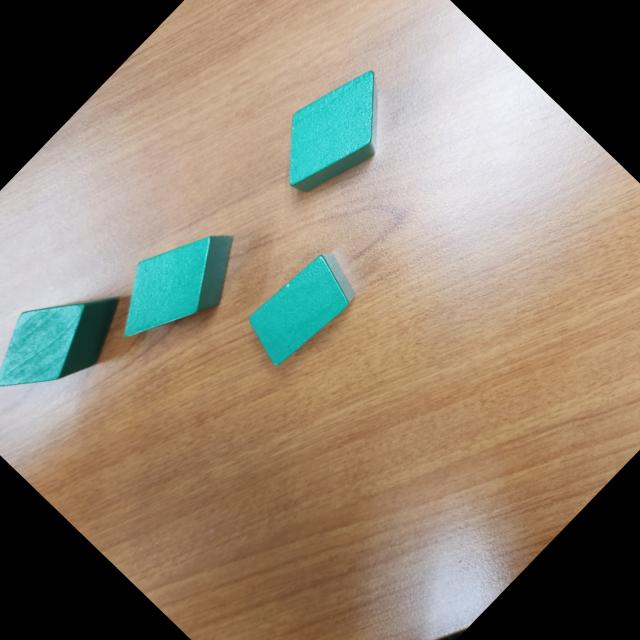green: (93, 200, 261, 370), (252, 48, 418, 215), (0, 255, 140, 426), (235, 242, 368, 376)
